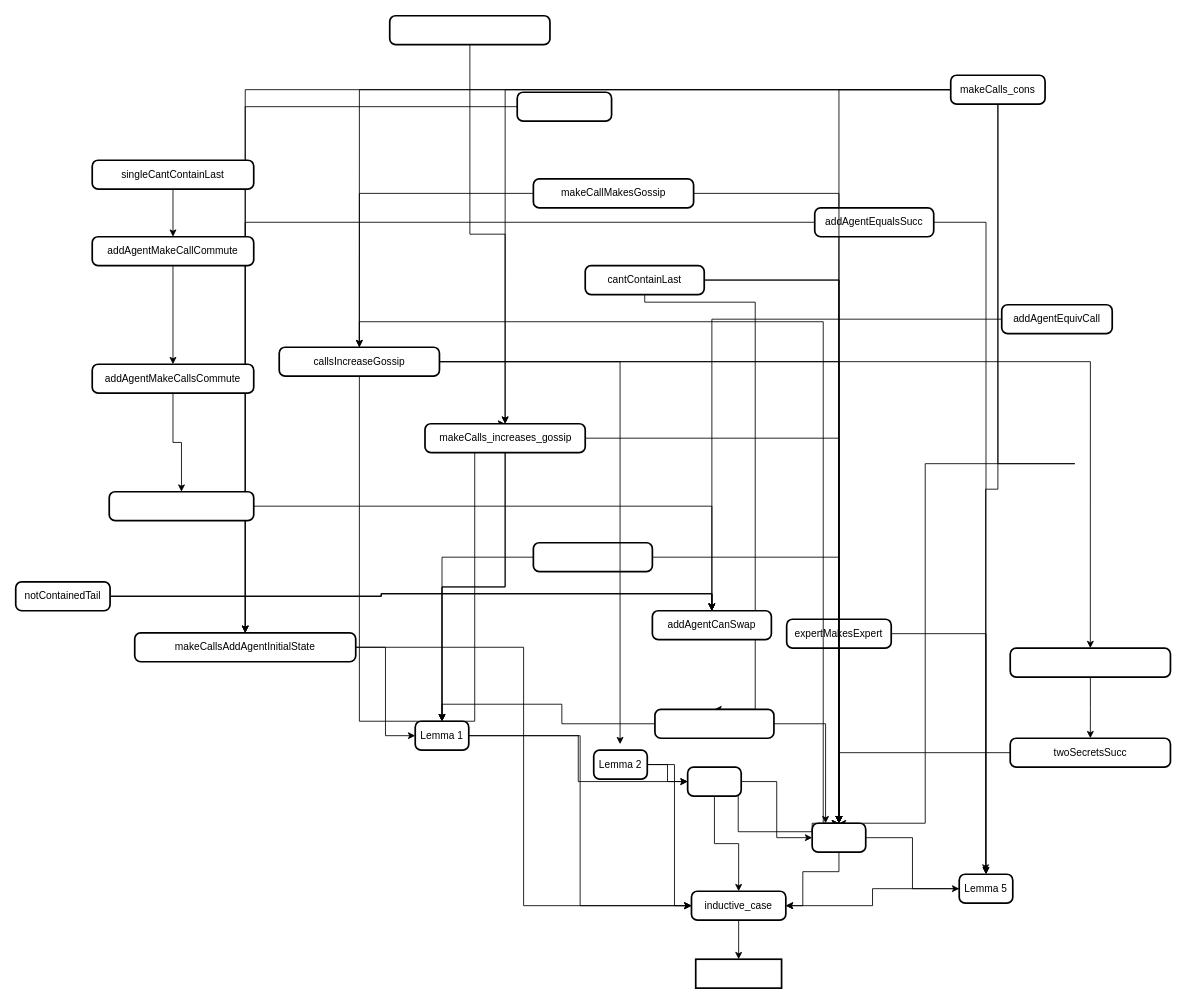
Image size: 1186x1003. Some labels were removed from this diagram. Here are the shapes that lost their labels. From the top down, the box of each, then its label:
(388, 14, 550, 45): makeCallIncreasesGossip
(516, 91, 612, 122): makeCalls_snoc
(108, 490, 254, 521): makeCallEquivalence
(532, 541, 653, 572): addAgentExpertOld
(1009, 647, 1171, 677): twoSecretsSuccSingle
(654, 708, 774, 739): addAgentReplaceable
(686, 766, 742, 796): Lemma 3
(811, 822, 866, 853): Lemma 4
(694, 958, 782, 989): sufficiency
